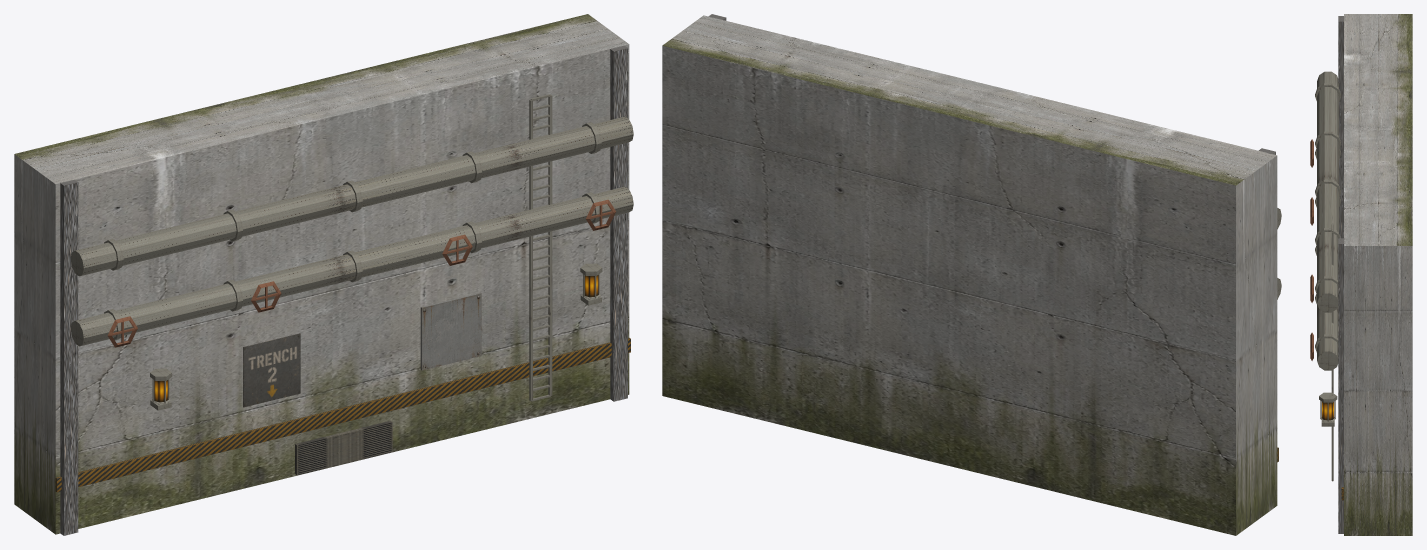
Rendered from trench-wall-module.glb.
3 views of the same model, side by side, from view 1: azimuth 30°, elevation 25°; view 2: azimuth 150°, elevation 25°; view 3: azimuth 270°, elevation 25° (orthographic). The views are drawn at different scales.
Visible parts, largest first — view 1: trench-wall-module_concrete, trench-wall-module_metal, trench-wall-module_signage; view 2: trench-wall-module_concrete; view 3: trench-wall-module_concrete, trench-wall-module_metal, trench-wall-module_emissive.
Part boxes in pixels (<box>): trench-wall-module_concrete: <box>14,14,629,535</box>; trench-wall-module_metal: <box>71,94,633,475</box>; trench-wall-module_signage: <box>55,333,630,492</box>; trench-wall-module_concrete: <box>662,14,1277,535</box>; trench-wall-module_concrete: <box>1338,14,1412,535</box>; trench-wall-module_metal: <box>1310,71,1340,481</box>; trench-wall-module_emissive: <box>1321,402,1334,420</box>.
Size of the model in its own units: 24 by 14 by 4.48.
Materials: 4 (4 with a texture image).
